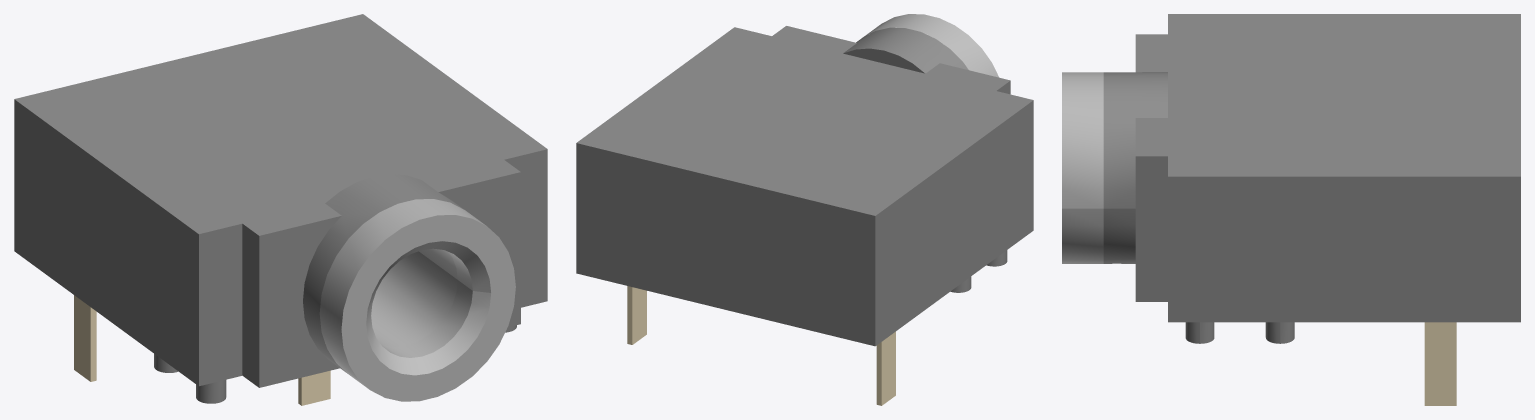
Rendered from kc-jack_3.5mm_cui_sj1-3523n_horizontal.glb.
The picture shows the model from 3 angles, left to right: view 1: azimuth 30°, elevation 25°; view 2: azimuth 150°, elevation 25°; view 3: azimuth 270°, elevation 25°; orthographic projection. The views are drawn at different scales.
Visible parts, largest first — view 1: 0.25_0.25_0.25_0, 0.5_0.5_0.5_0.85, 0.8333333333333334_0.75_0.5_0.9; view 2: 0.25_0.25_0.25_0, 0.5_0.5_0.5_0.85, 0.8333333333333334_0.75_0.5_0.9; view 3: 0.25_0.25_0.25_0, 0.5_0.5_0.5_0.85, 0.8333333333333334_0.75_0.5_0.9.
Part boxes in pixels (x1,y1,x2,y2): 0.25_0.25_0.25_0: (14,14,547,403); 0.5_0.5_0.5_0.85: (319,199,515,401); 0.8333333333333334_0.75_0.5_0.9: (74,295,330,405); 0.25_0.25_0.25_0: (576,26,1033,346); 0.5_0.5_0.5_0.85: (864,14,998,77); 0.8333333333333334_0.75_0.5_0.9: (627,286,895,405); 0.25_0.25_0.25_0: (1103,14,1520,343); 0.5_0.5_0.5_0.85: (1062,72,1103,263); 0.8333333333333334_0.75_0.5_0.9: (1424,322,1456,405).
Bounding box in the file's own units: 1.2 × 0.88 × 1.43.
